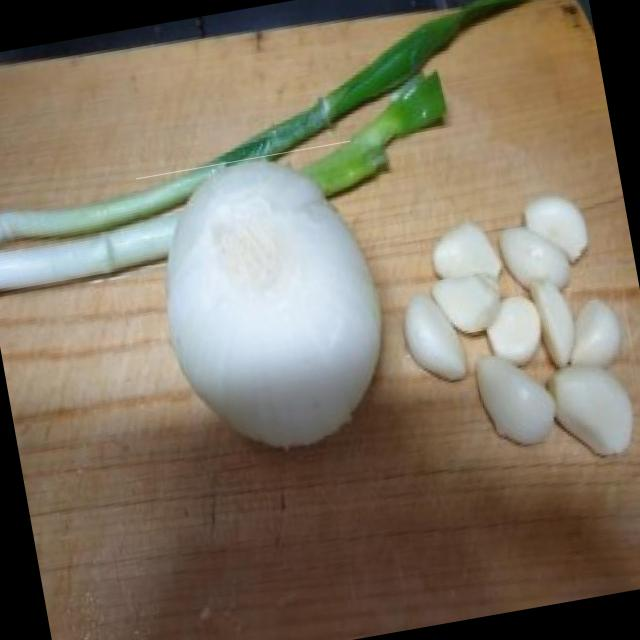Onion: (136, 140, 402, 472)
